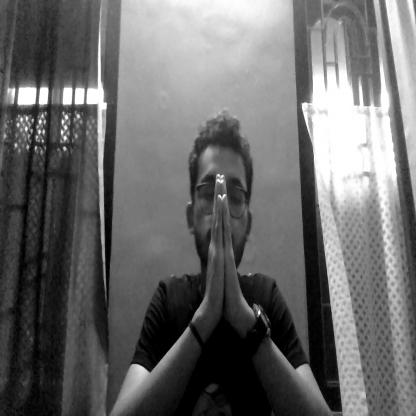Distracted: (189, 121, 264, 264)
